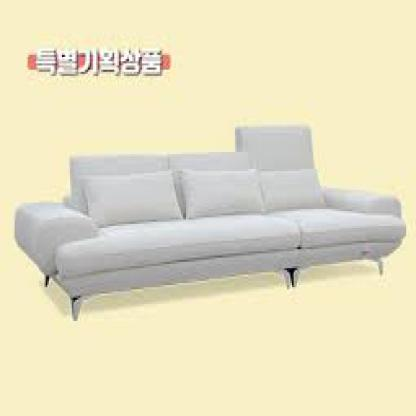sofa: (8, 129, 403, 321)
